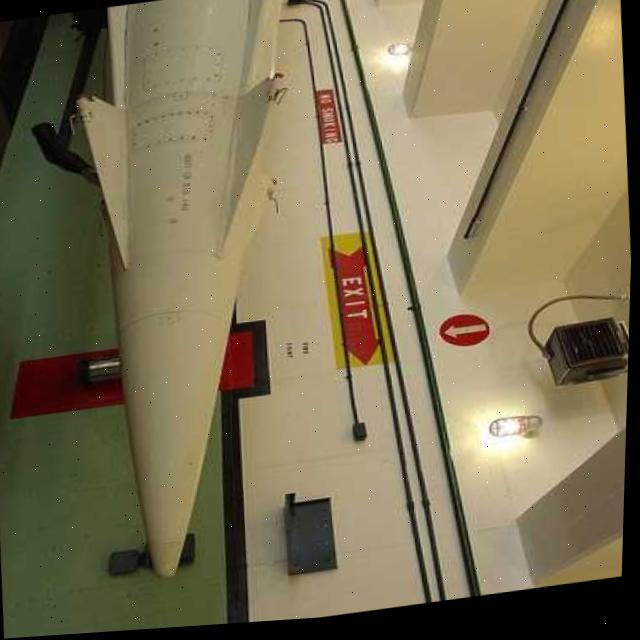missile: (56, 0, 330, 592)
